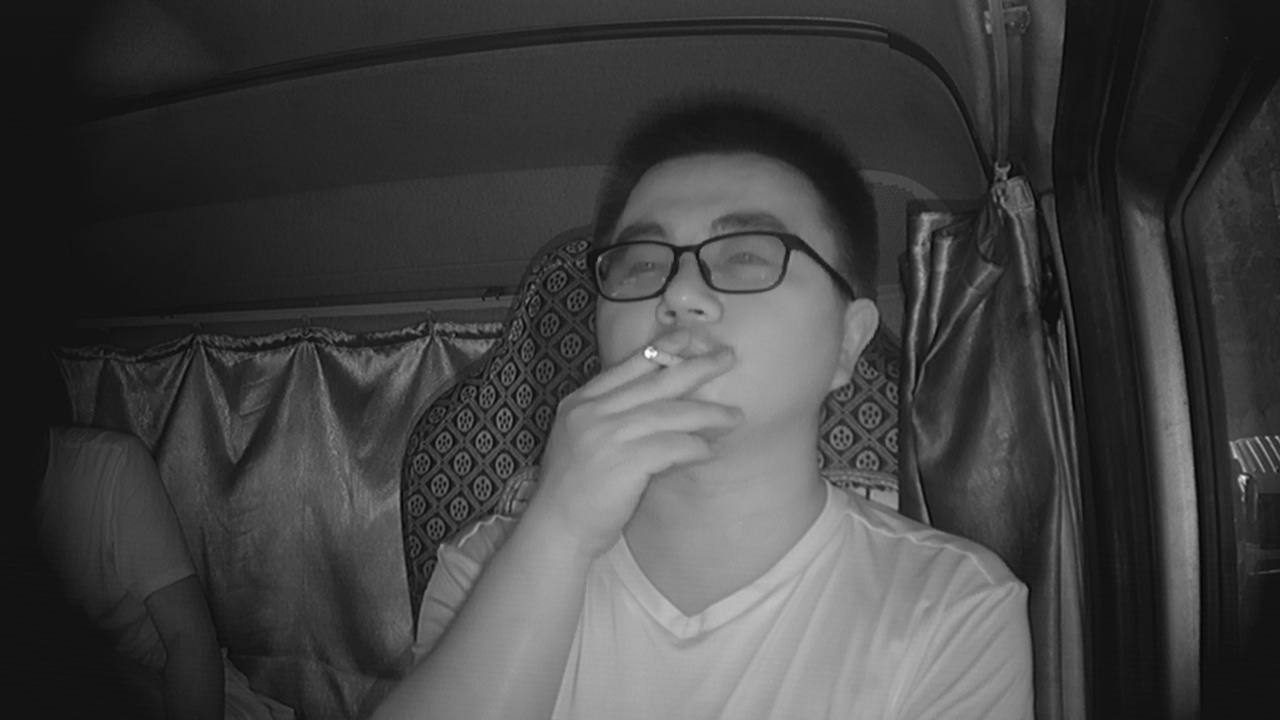hand: (549, 322, 737, 511)
